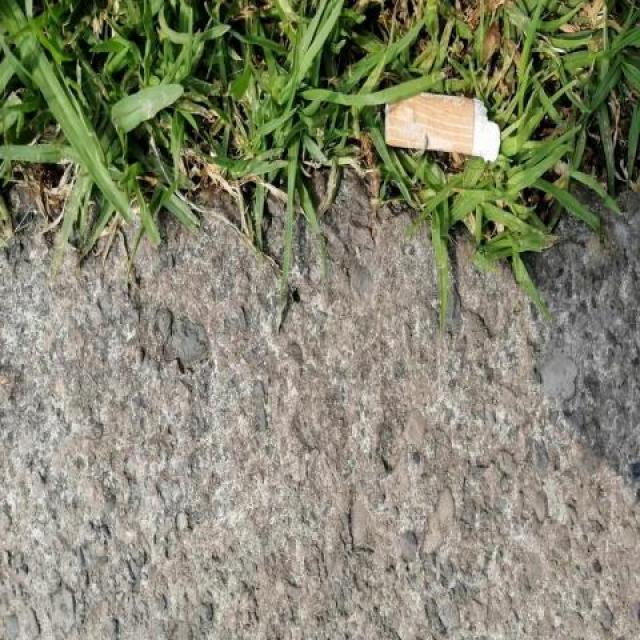non-organic waste: (382, 84, 505, 165)
